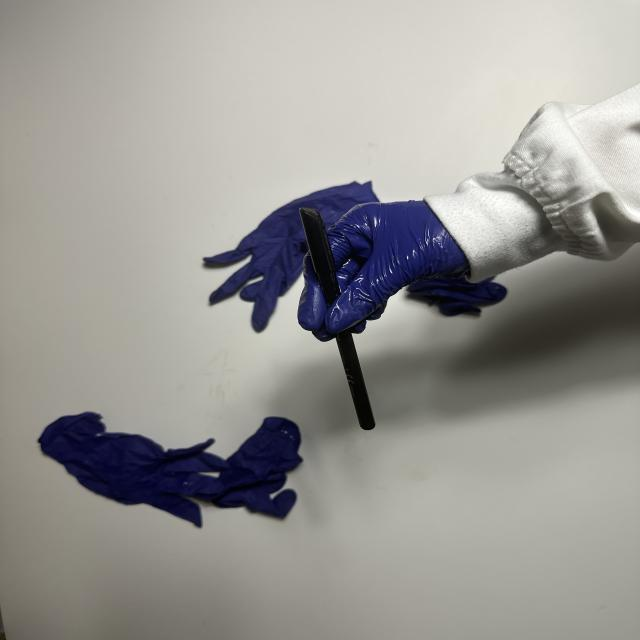gloves_contaminated: (298, 201, 470, 341)
